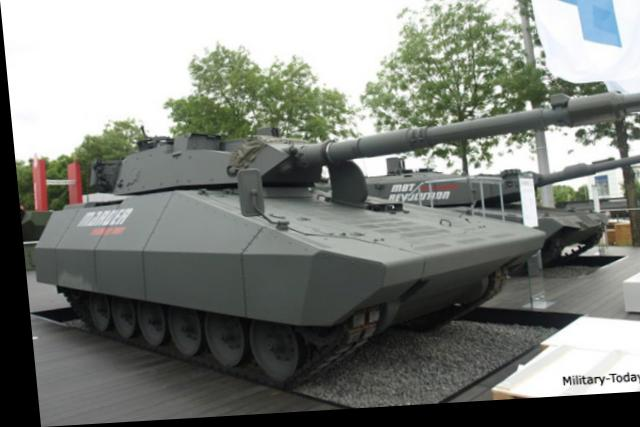tank: (44, 106, 525, 363)
